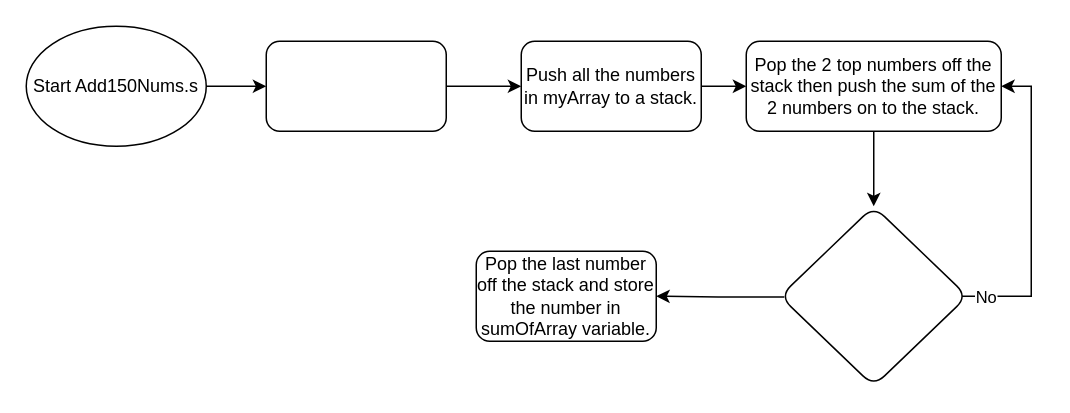
Some shapes in this 1070 by 413 pixel diagram are drawn without their labels. Here are the shapes that lost their labels. From the top down, the centre of each, then its label:
point 355,85: Generate an myArray containing numbers 1 to 150.
point 873,295: Stack contains only 1 number?
